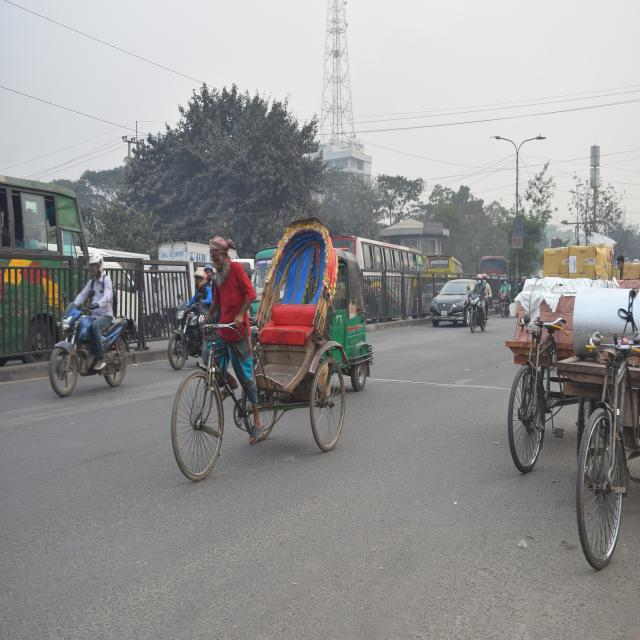car: (426, 268, 478, 338)
motorbike: (37, 286, 143, 415), (160, 289, 208, 369), (468, 288, 492, 340)
